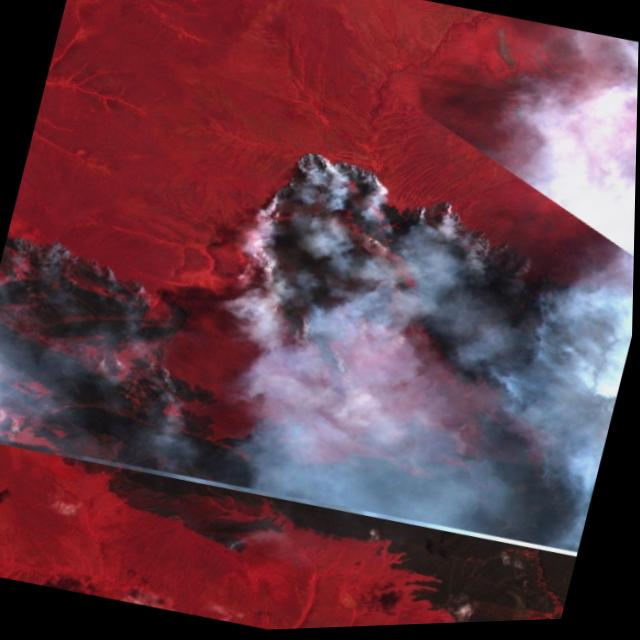fire: (195, 129, 556, 481), (0, 219, 177, 472)
